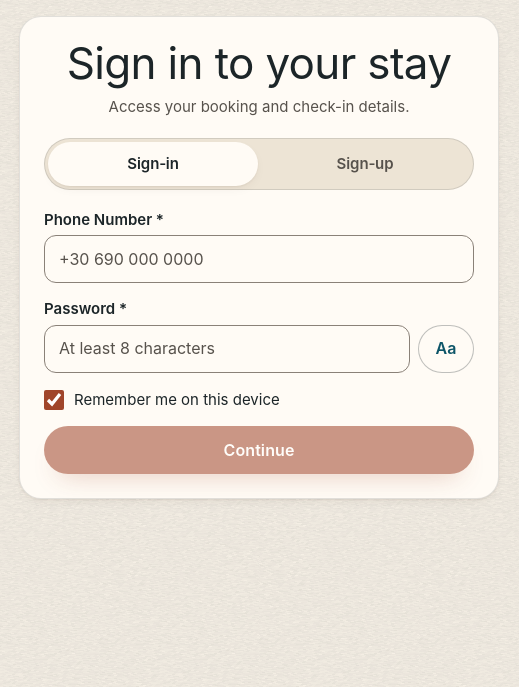
Scenario: guest sign-in errors › keeps the generic message for other failures
The width and height of the screenshot is (519, 687).
Step 1. Type "+306912345678" into the field labelled "Phone Number *" → x=259, y=259, box [44, 235, 474, 283]
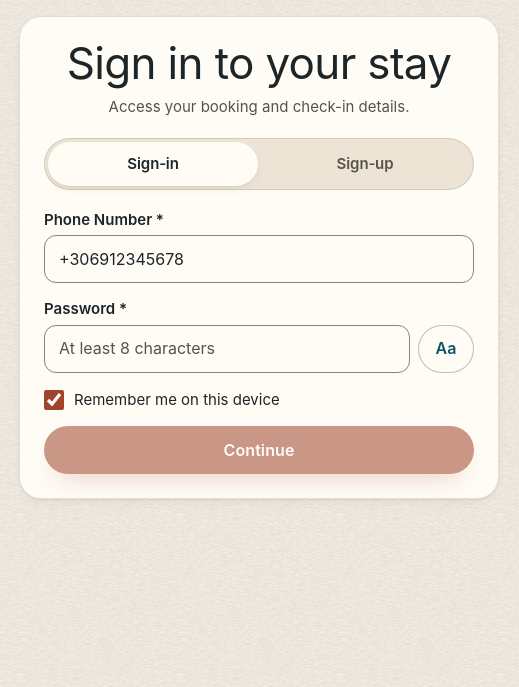
Step 2. Type "correct-horse-battery" into the password field labelled "Password *" → x=227, y=349, box [44, 325, 410, 373]
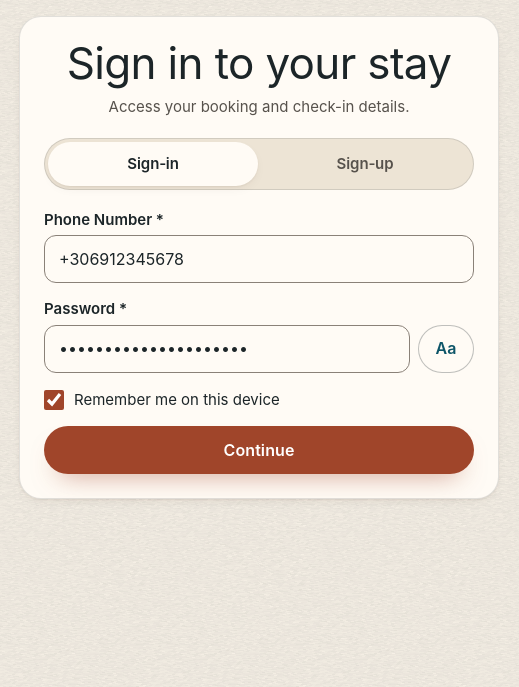
Step 3. Submit the form, box [44, 210, 474, 474]
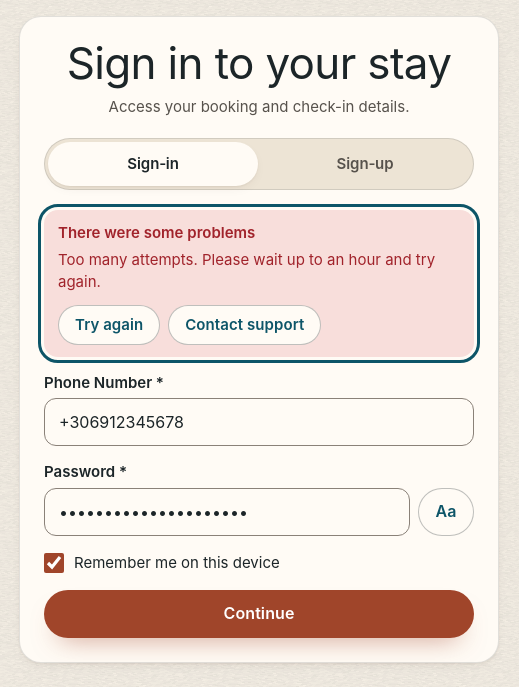
Check: the text "Too many attempts. Please wait up to an hour and try again." is shown, box [58, 249, 460, 293]
